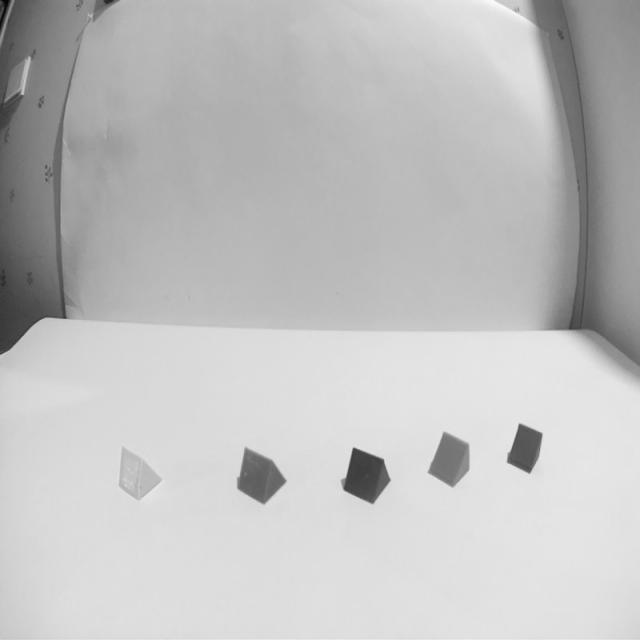triangle: (236, 446, 286, 506), (341, 447, 391, 505), (117, 446, 162, 502), (427, 432, 471, 488), (507, 424, 543, 475)
